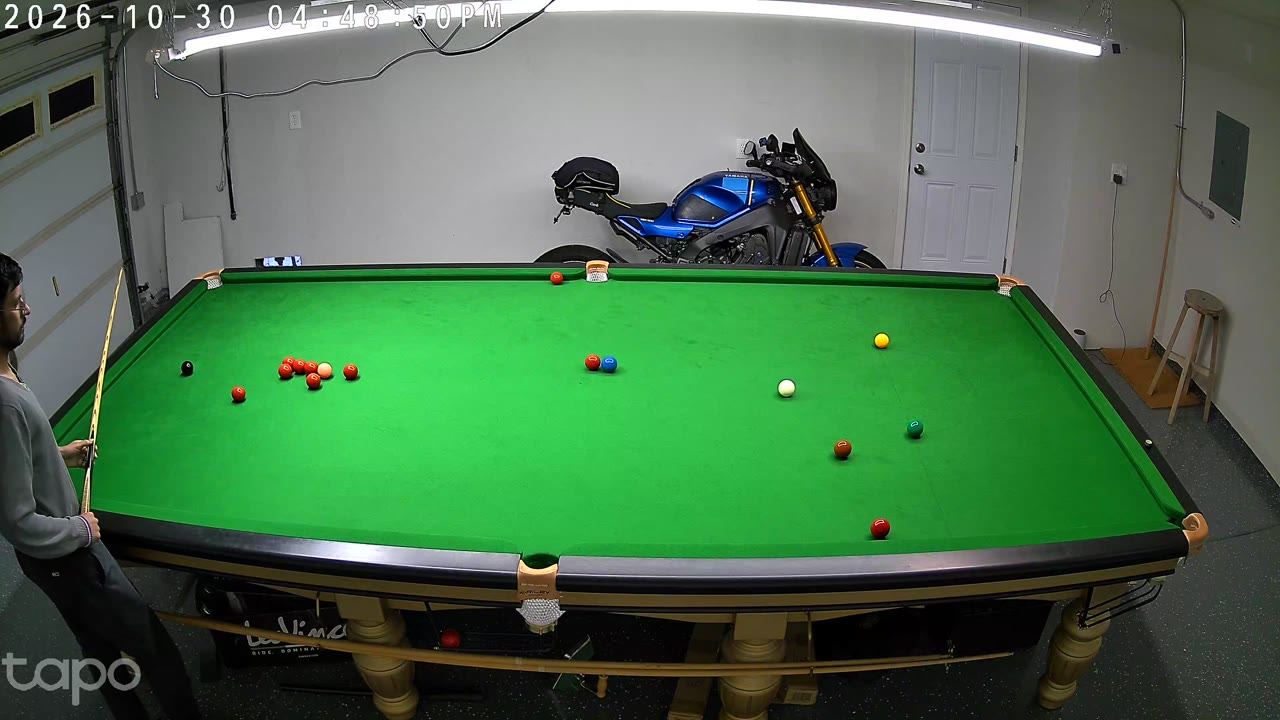black: (182, 359, 193, 378)
blue: (602, 355, 617, 376)
brown: (834, 438, 852, 463)
green: (906, 417, 923, 442)
pink: (318, 362, 331, 381)
red: (869, 515, 891, 546), (232, 385, 246, 405), (586, 353, 600, 373), (279, 362, 292, 382), (344, 362, 357, 382), (307, 371, 319, 391), (305, 360, 316, 379), (284, 356, 294, 376), (551, 271, 562, 288), (295, 358, 305, 376)
white: (778, 377, 794, 400)
yellow: (875, 332, 889, 351)
